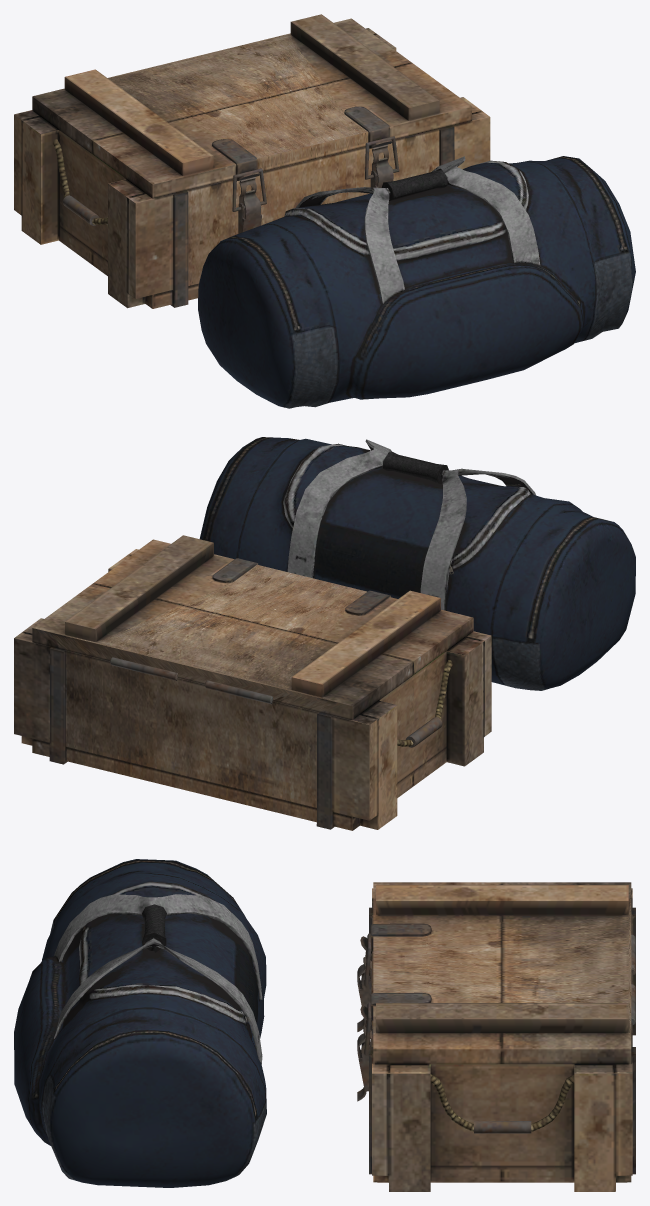
The model's file is Back02.FBX.
3 views of the same model, one above another, from view 1: azimuth 30°, elevation 25°; view 2: azimuth 150°, elevation 25°; view 3: azimuth 270°, elevation 25° (orthographic). The views are drawn at different scales.
Visible parts, largest first — view 1: BRBag, DeathDropBox; view 2: DeathDropBox, BRBag; view 3: DeathDropBox, BRBag.
Part boxes in pixels (x1,y1,x2,y2): BRBag: (198, 156, 635, 408); DeathDropBox: (14, 14, 490, 308); DeathDropBox: (14, 535, 491, 830); BRBag: (199, 437, 635, 690); DeathDropBox: (357, 882, 635, 1191); BRBag: (14, 859, 266, 1187).
Size of the model in its own units: 79.9 by 37.15 by 111.
